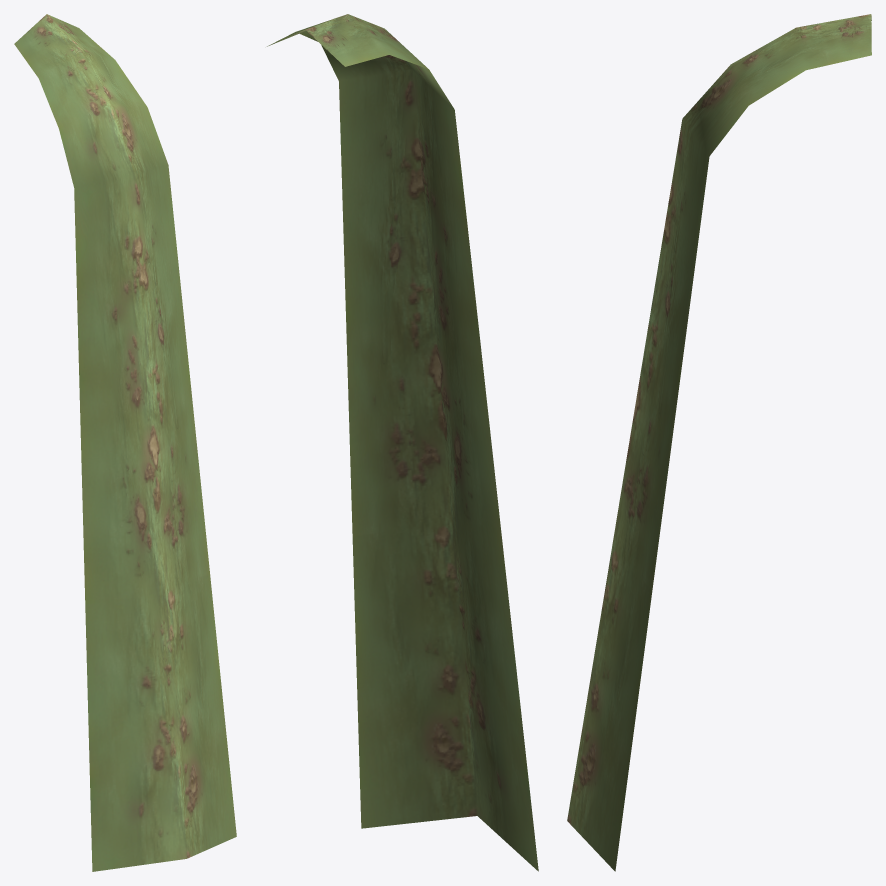
File: Pipe_water1.fbx
3 renders of one model, left to right at view 1: azimuth 30°, elevation 25°; view 2: azimuth 150°, elevation 25°; view 3: azimuth 270°, elevation 25°, orthographic. The views are drawn at different scales.
Parts seen in each view (by area): view 1: pPlane8; view 2: pPlane8; view 3: pPlane8.
Part boxes in pixels (x1,y1,x2,y2): pPlane8: [14, 14, 236, 871]; pPlane8: [267, 14, 538, 871]; pPlane8: [567, 14, 871, 871].
Size of the model in its own units: 1.3 by 6.5 by 2.19.
